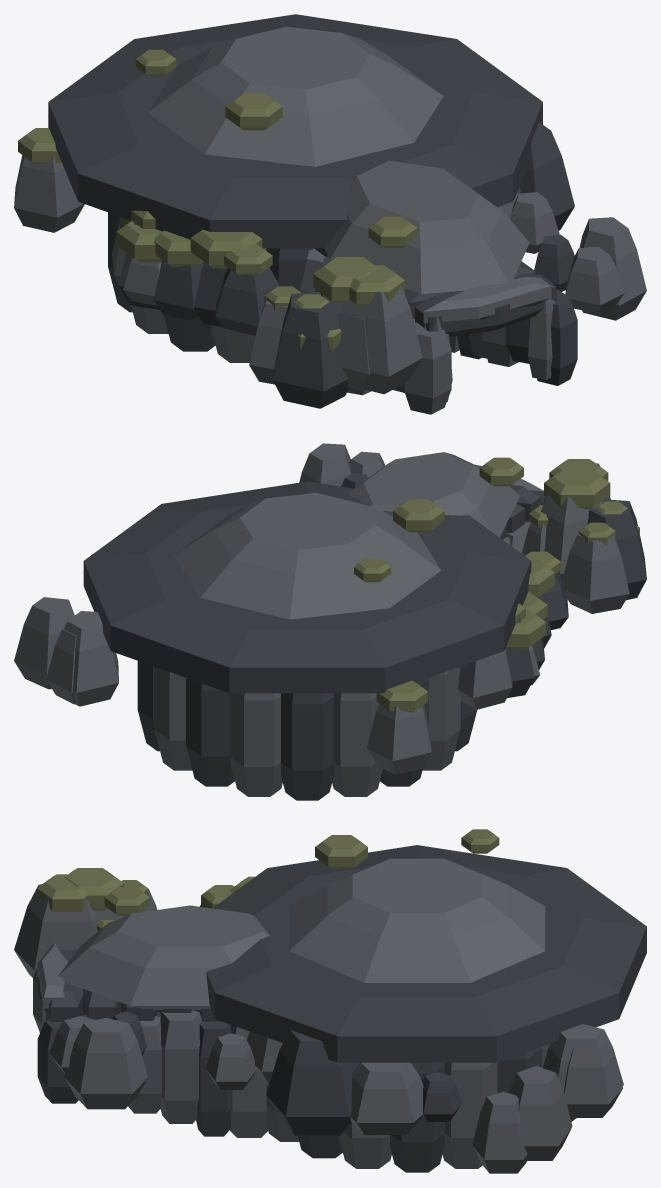
The model's file is cave_highland.glb.
3 renders of one model, top to bottom at view 1: azimuth 30°, elevation 25°; view 2: azimuth 150°, elevation 25°; view 3: azimuth 270°, elevation 25°, orthographic. The views are drawn at different scales.
Parts seen in each view (by area): view 1: cave_highland; view 2: cave_highland; view 3: cave_highland.
Part boxes in pixels (left/top/right/bottom): cave_highland: left=14, top=14, right=646, bottom=414; cave_highland: left=14, top=443, right=646, bottom=800; cave_highland: left=14, top=829, right=646, bottom=1173.
Bounding box in the file's own units: 40.33 × 19.83 × 50.2.
